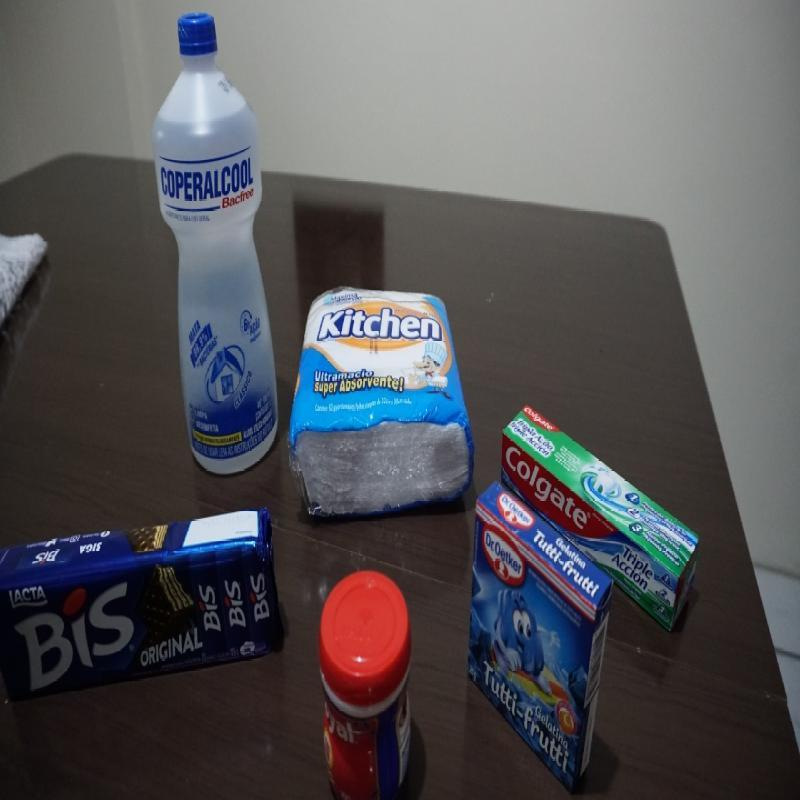Alcohol Bottle: (156, 4, 282, 480)
Gelatine: (475, 480, 604, 788)
Napkin: (296, 289, 474, 520)
Toothpaste: (608, 468, 706, 650)
Yeast: (318, 571, 416, 790)
